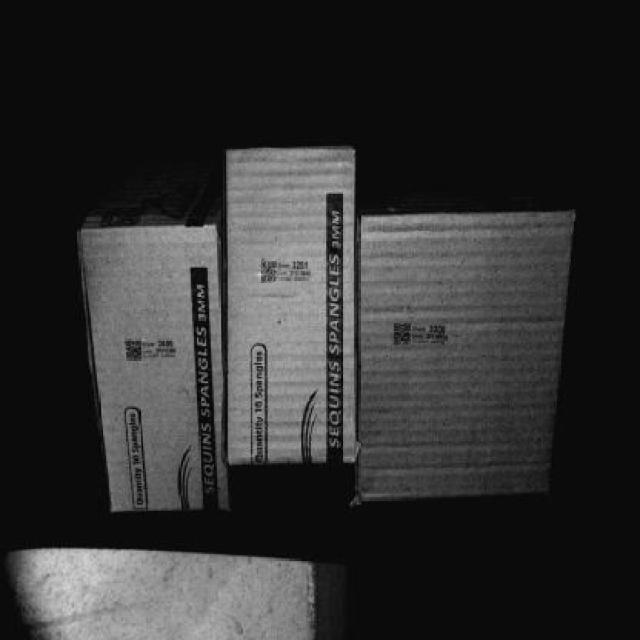cardboxes: (366, 212, 568, 498), (84, 226, 228, 506), (230, 151, 358, 460)
